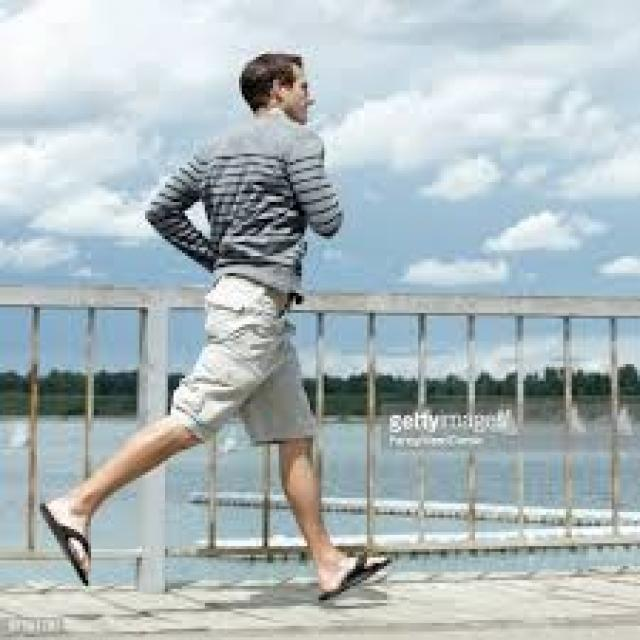No_Helmet: (234, 48, 313, 85)
No_Shoe: (40, 484, 104, 586), (310, 544, 383, 601)
Person: (126, 41, 544, 629)
